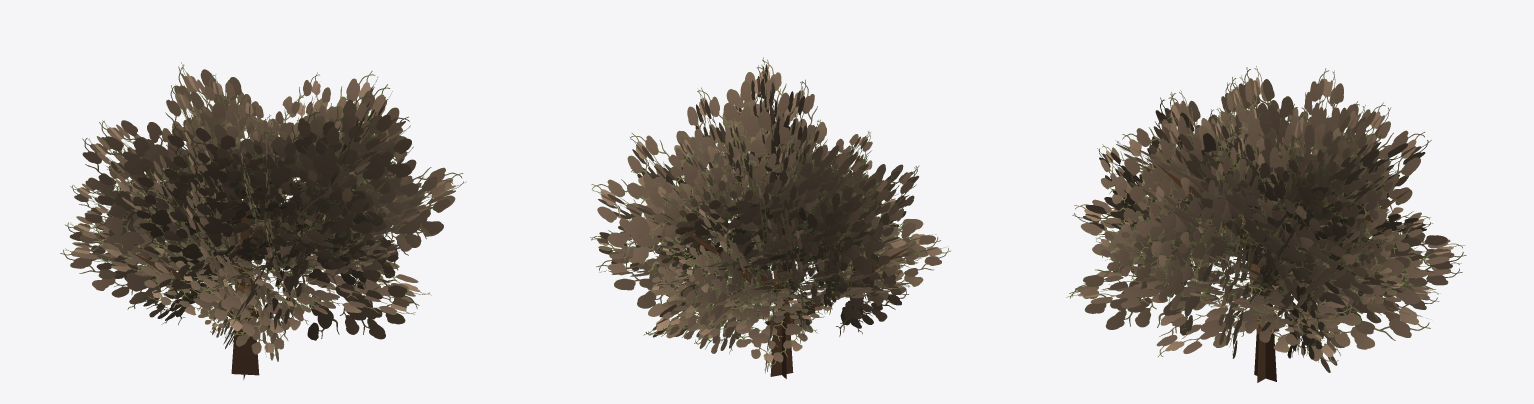
The model's file is Bush_7A.fbx.
3 renders of one model, left to right at view 1: azimuth 30°, elevation 25°; view 2: azimuth 150°, elevation 25°; view 3: azimuth 270°, elevation 25°, orthographic. The views are drawn at different scales.
Parts seen in each view (by area): view 1: Bush_7A; view 2: Bush_7A; view 3: Bush_7A.
Part boxes in pixels (x1=…): Bush_7A: x1=60, y1=62, x2=466, y2=379; Bush_7A: x1=590, y1=57, x2=950, y2=378; Bush_7A: x1=1066, y1=66, x2=1466, y2=382.
Size of the model in its own units: 201 by 147 by 194.
